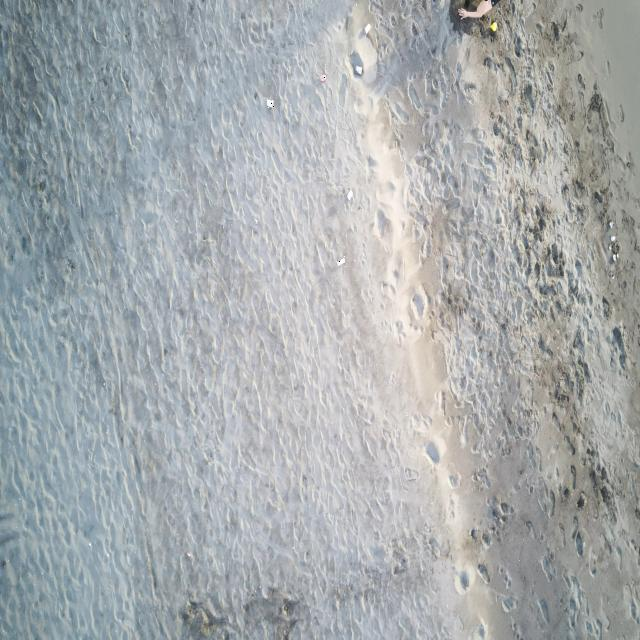Garbage: (608, 235, 619, 260), (351, 52, 362, 75), (608, 239, 619, 252), (353, 64, 362, 75), (363, 24, 371, 35), (488, 20, 495, 32), (266, 98, 273, 108), (336, 256, 344, 264), (184, 552, 192, 559), (346, 191, 352, 200), (320, 72, 326, 81), (607, 220, 612, 227), (609, 235, 615, 240), (612, 253, 616, 260)
